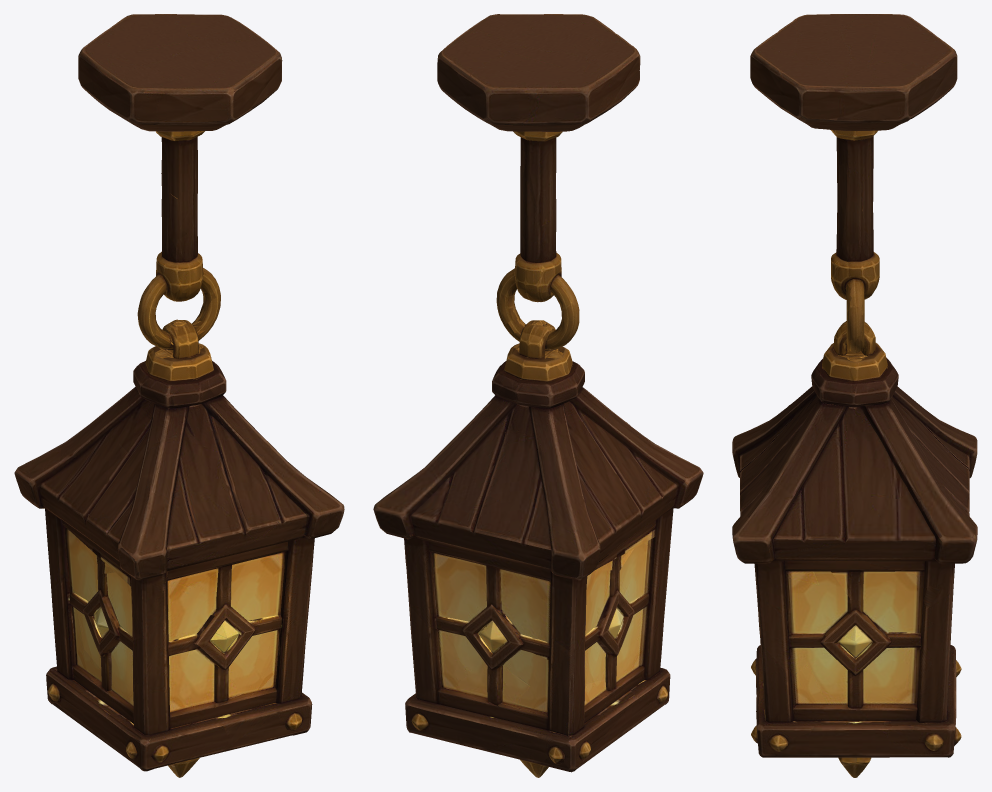
The model's file is wall-lantern.glb.
3 views of the same model, side by side, from view 1: azimuth 30°, elevation 25°; view 2: azimuth 150°, elevation 25°; view 3: azimuth 270°, elevation 25° (orthographic).
Visible parts, largest first — view 1: output_unwrapped; view 2: output_unwrapped; view 3: output_unwrapped.
Part boxes in pixels (x1,y1,x2,y2): output_unwrapped: (14, 14, 344, 777); output_unwrapped: (373, 14, 703, 777); output_unwrapped: (732, 14, 977, 777).
Bounding box in the file's own units: 0.5819 × 1.9 × 0.5814.
Materials: 1 (1 with a texture image).
